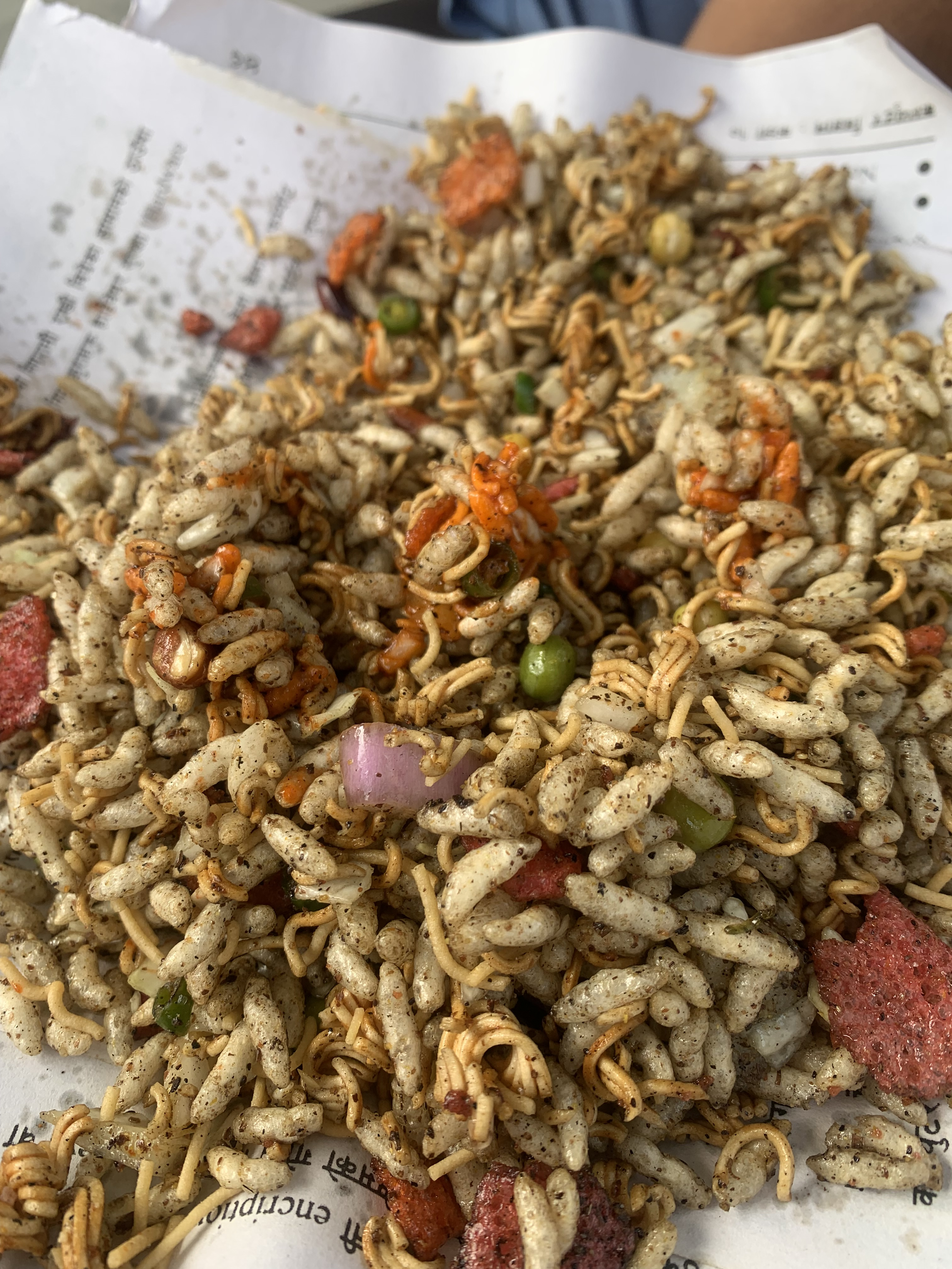chatpate: (0, 145, 929, 1180)
